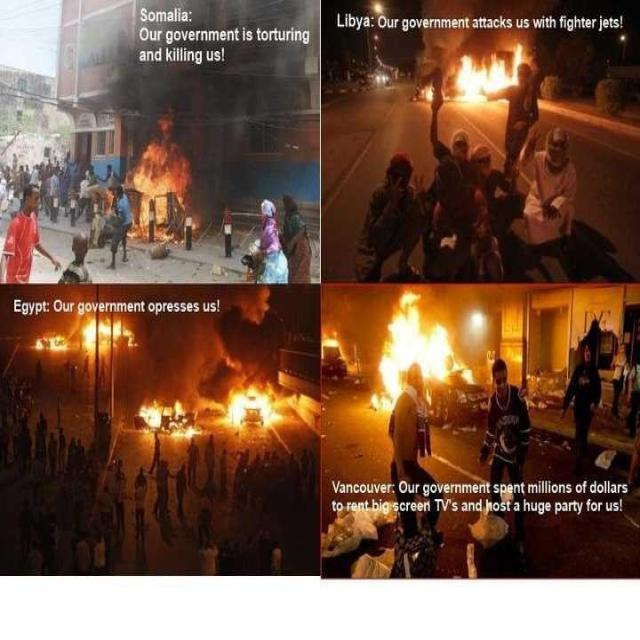Fire: (384, 296, 452, 389), (420, 54, 520, 105), (136, 126, 188, 224), (224, 388, 280, 432)
Smoke: (108, 66, 226, 122)
